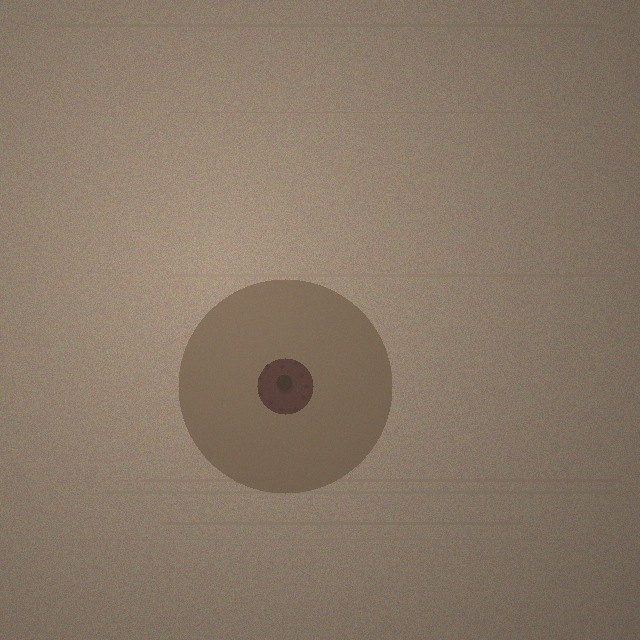cold_weld: (178, 279, 392, 493)
